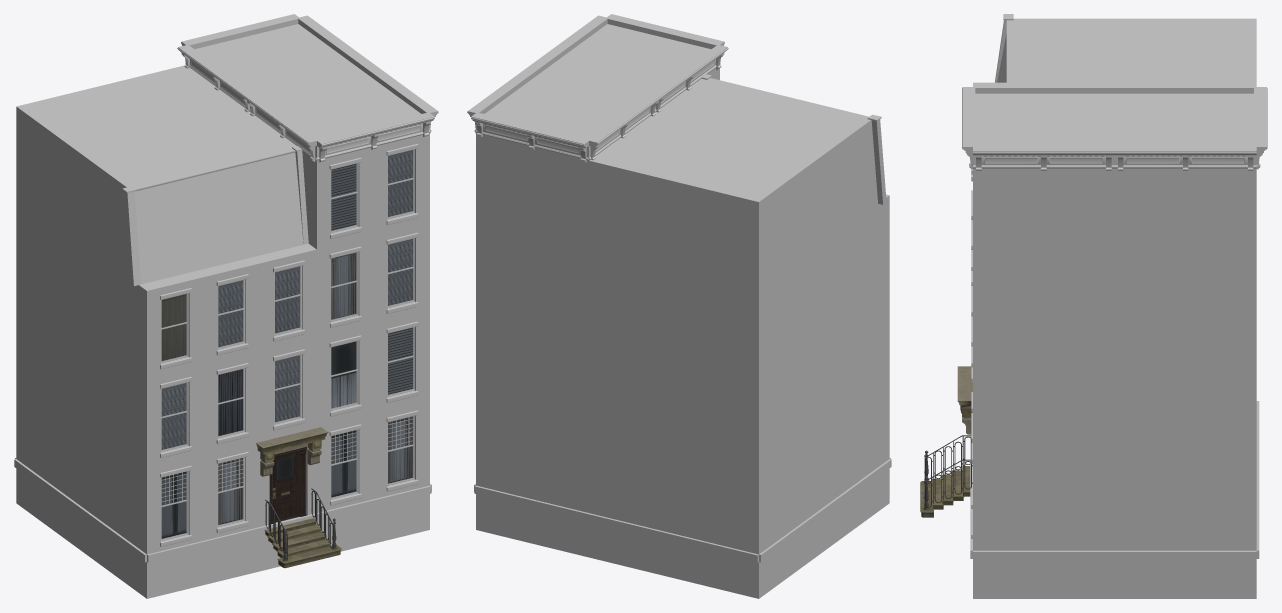
File: House_07.fbx
3 views of the same model, side by side, from view 1: azimuth 30°, elevation 25°; view 2: azimuth 150°, elevation 25°; view 3: azimuth 270°, elevation 25° (orthographic). The views are drawn at different scales.
Visible parts, largest first — view 1: House_07_LOD0; view 2: House_07_LOD0; view 3: House_07_LOD0.
Part boxes in pixels (left/top/right/bottom): House_07_LOD0: left=14, top=14, right=438, bottom=598; House_07_LOD0: left=467, top=14, right=891, bottom=598; House_07_LOD0: left=920, top=14, right=1267, bottom=598.
Size of what is drawn, in the model's own units: 1052 by 1407 by 979.
